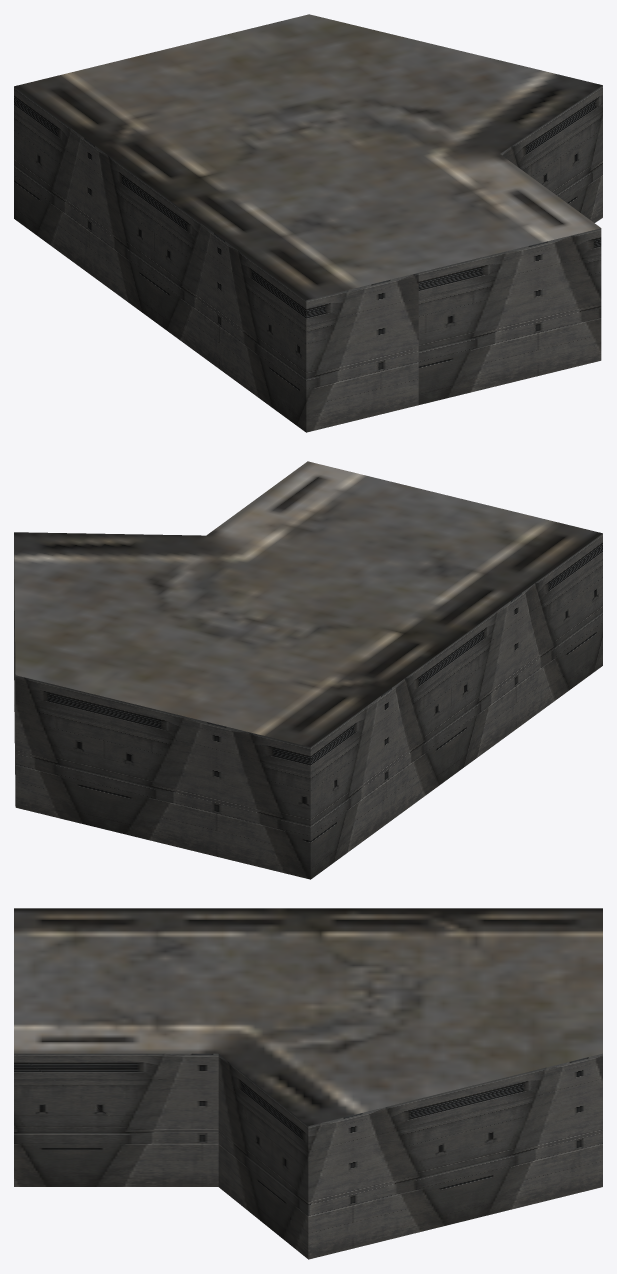
Rendered from fortress_light_11.glb.
The picture shows the model from 3 angles, top to bottom: view 1: azimuth 30°, elevation 25°; view 2: azimuth 150°, elevation 25°; view 3: azimuth 270°, elevation 25°; orthographic projection.
Visible parts, largest first — view 1: buildings/saxarba/fortress_light/fortress_light_11; view 2: buildings/saxarba/fortress_light/fortress_light_11; view 3: buildings/saxarba/fortress_light/fortress_light_11.
Part boxes in pixels (x1,y1,x2,y2): buildings/saxarba/fortress_light/fortress_light_11: [14, 14, 602, 432]; buildings/saxarba/fortress_light/fortress_light_11: [14, 461, 602, 879]; buildings/saxarba/fortress_light/fortress_light_11: [14, 908, 602, 1259].
Bounding box in the file's own units: 63 × 18 × 72.
